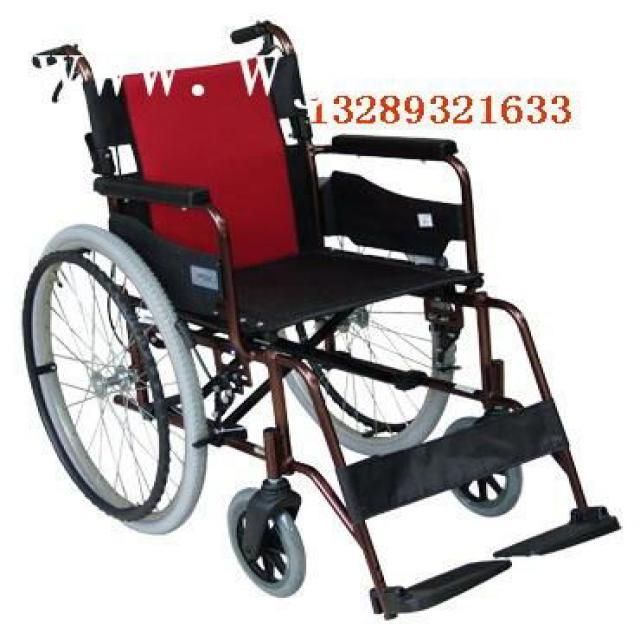wheelchair: (33, 23, 633, 619)
